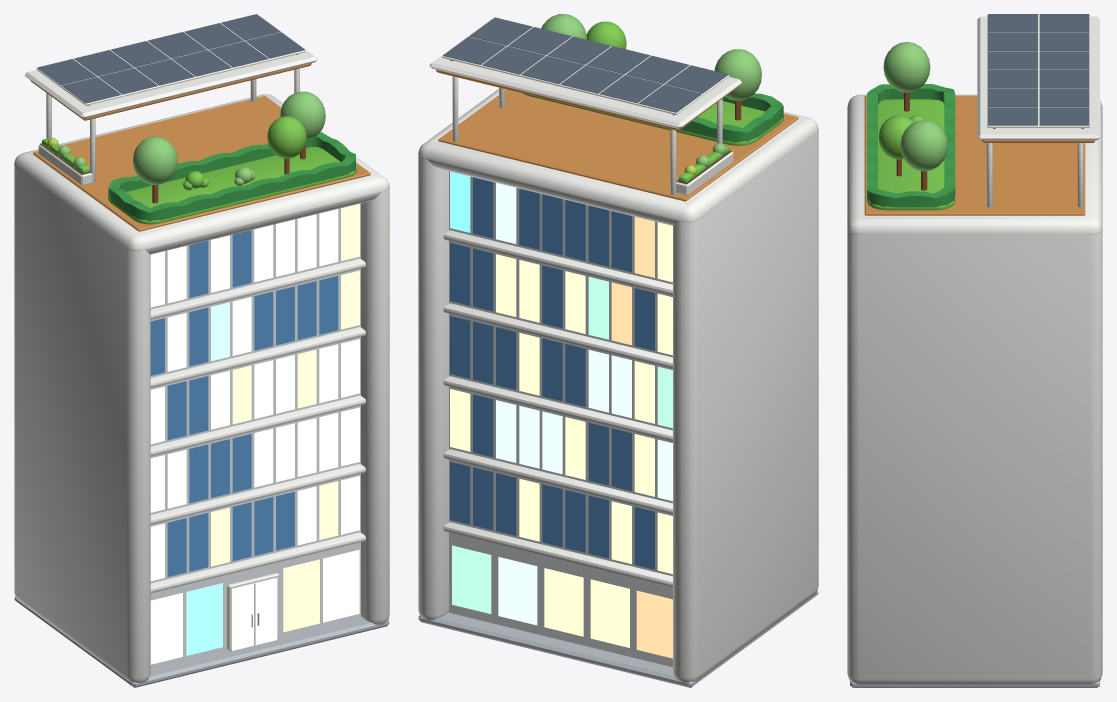
The model's file is escritorio_jardim_telhado.glb.
3 renders of one model, left to right at view 1: azimuth 30°, elevation 25°; view 2: azimuth 150°, elevation 25°; view 3: azimuth 270°, elevation 25°, orthographic. The views are drawn at different scales.
Parts seen in each view (by area): view 1: escritorio_jardim_telhado; view 2: escritorio_jardim_telhado; view 3: escritorio_jardim_telhado.
Part boxes in pixels (x1,y1,x2,y2): escritorio_jardim_telhado: (14,14,389,687); escritorio_jardim_telhado: (418,14,818,687); escritorio_jardim_telhado: (847,14,1102,687).
Bounding box in the file's own units: 12.8 × 24.93 × 10.4.
7 materials, 1 textured.
